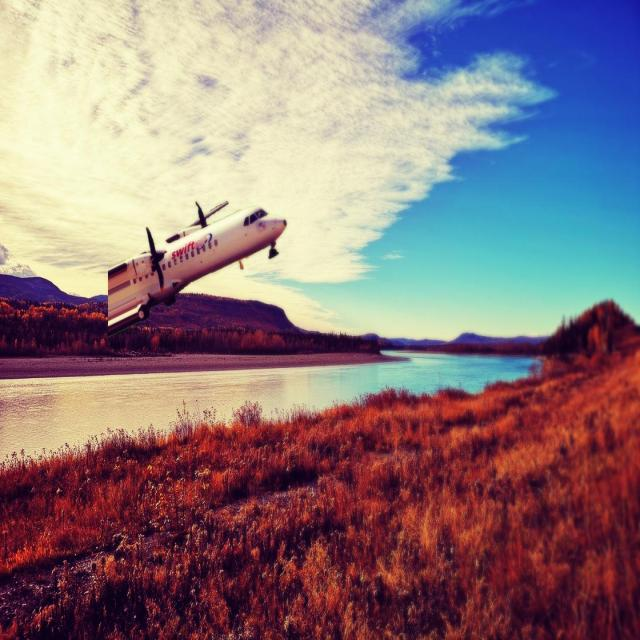airplane: (106, 198, 287, 338)
